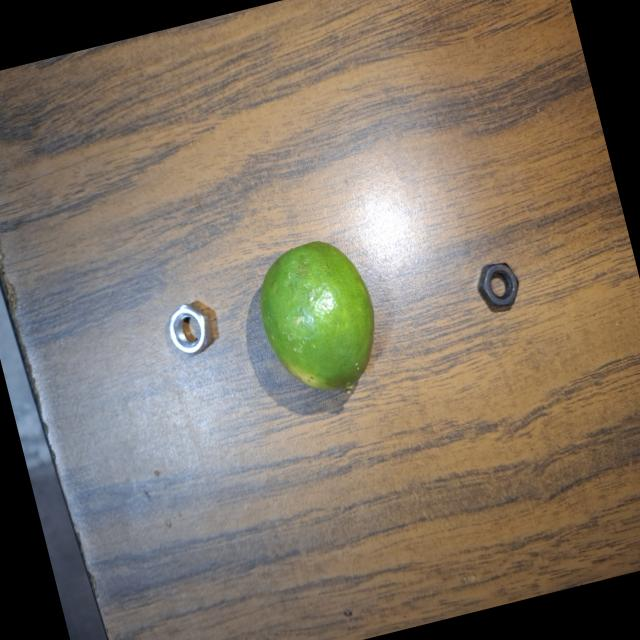limon: (240, 224, 399, 415)
milimetrico: (461, 244, 534, 327)
tuerca: (150, 286, 227, 378)
